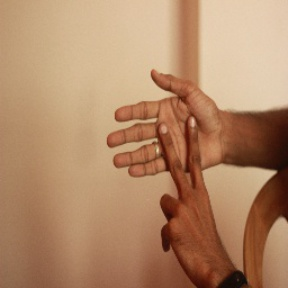N: (104, 65, 237, 257)
